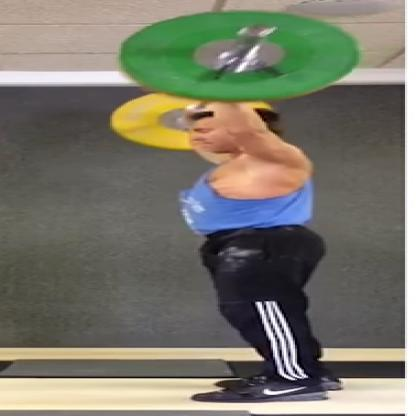barbell: (108, 9, 363, 154)
